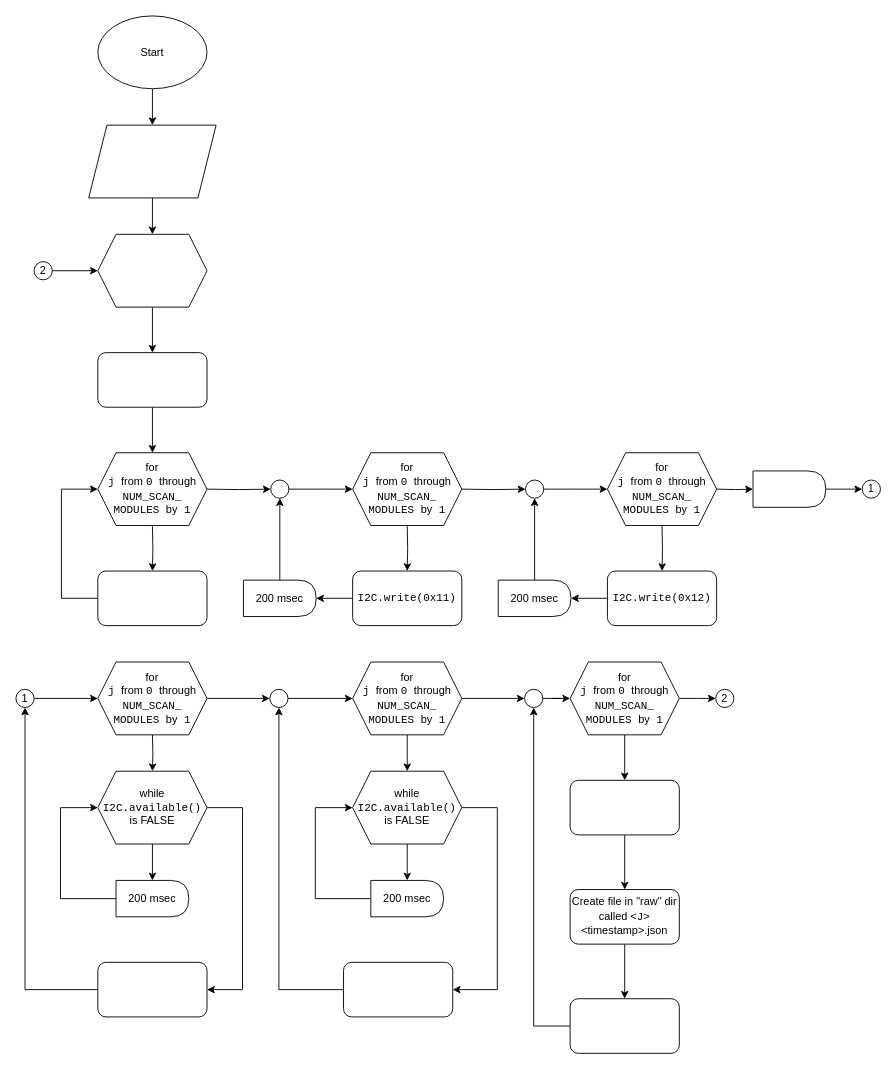
This 896x1069 diagram has some shape labels left out. The shapes that lost their labels are listed below. From the top down, each one's box as (x1, y1, x2, y2) in pixels, then its label:
(88, 124, 216, 198): INPUT num_scans, propertyName, poiName, group
(97, 233, 207, 307): for i from 0 through num_scans by 1
(97, 352, 207, 407): Generate timestamp
(752, 470, 826, 507): 6600 msec
(97, 570, 207, 626): init_I2C()
(569, 779, 679, 835): mkdir("./raw", 0777)
(97, 961, 207, 1017): signal_counts[j] = I2C.read()
(343, 961, 453, 1017): scan_data_buf[j] = I2C.read()
(569, 998, 679, 1053): Write scan_data_buf[j] to file
